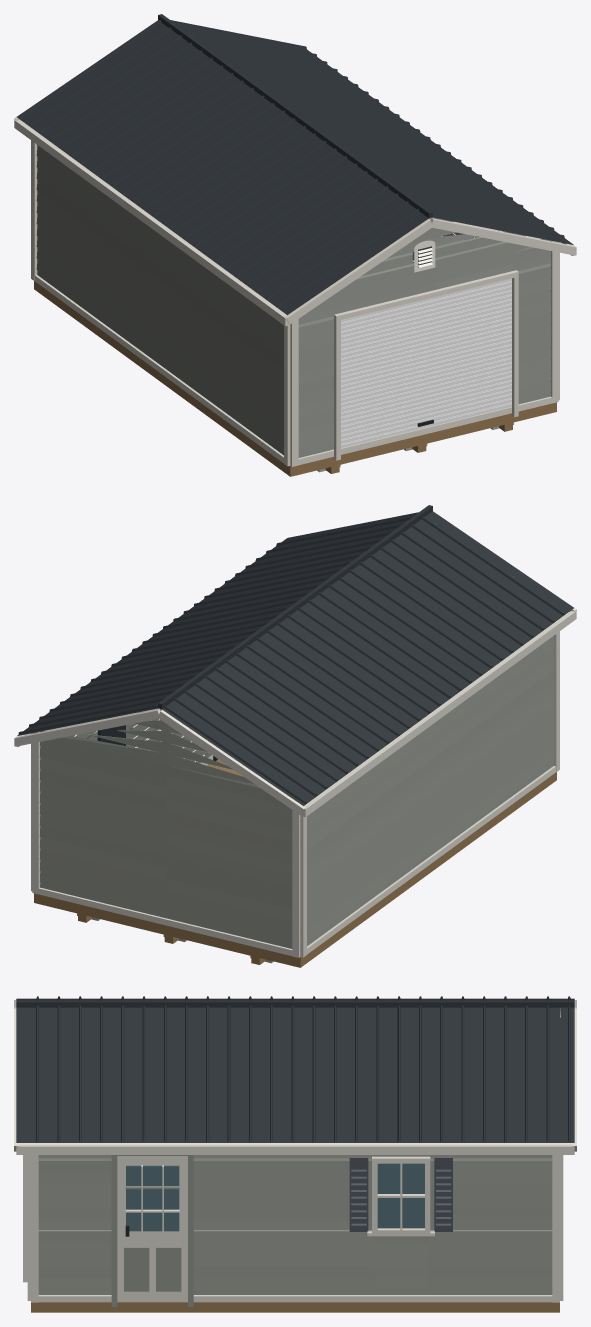
File: 11-garage-package-shutters.glb
The picture shows the model from 3 angles, top to bottom: view 1: azimuth 30°, elevation 25°; view 2: azimuth 150°, elevation 25°; view 3: azimuth 270°, elevation 25°; orthographic projection. The views are drawn at different scales.
Parts seen in each view (by area): view 1: Main roof, left wall, front wall roll, front wall, Floor platform and skids, front wall vent; view 2: Main roof, rear wall, left wall, Floor platform and skids, right wall; view 3: Main roof, right wall, right wall entry, Floor platform and skids, right wall window, Louvered window shutters, front wall roll, rear wall, front wall.
Part boxes in pixels (<box>): Main roof: <box>14,14,576,326</box>; left wall: <box>31,140,290,466</box>; front wall roll: <box>334,270,518,460</box>; front wall: <box>290,217,558,466</box>; Floor platform and skids: <box>34,281,556,476</box>; front wall vent: <box>414,240,435,272</box>; Main roof: <box>14,505,576,817</box>; rear wall: <box>32,704,300,957</box>; left wall: <box>300,631,559,957</box>; Floor platform and skids: <box>34,759,556,967</box>; right wall: <box>31,718,212,891</box>; Main roof: <box>14,996,576,1154</box>; right wall: <box>31,1155,559,1302</box>; right wall entry: <box>111,1155,193,1306</box>; Floor platform and skids: <box>31,1302,559,1312</box>; right wall window: <box>367,1156,434,1236</box>; Louvered window shutters: <box>349,1158,452,1231</box>; front wall roll: <box>23,1155,27,1282</box>; rear wall: <box>560,1008,563,1300</box>; front wall: <box>27,1155,30,1300</box>.
Size of the model in its own units: 4 by 3.23 by 6.49.
